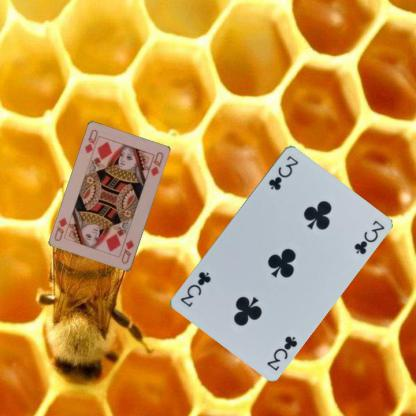3c: (264, 333, 299, 372), (266, 153, 299, 191)
Qd: (82, 127, 101, 158), (119, 238, 136, 265)
